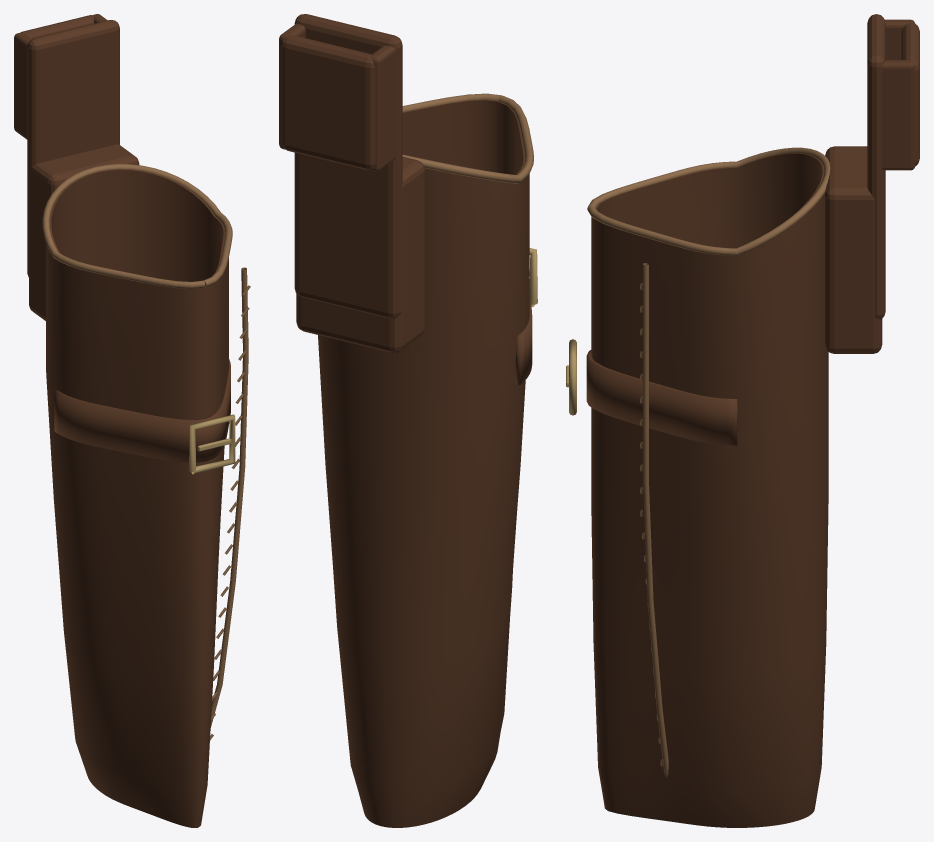
The model's file is holster.glb.
3 views of the same model, side by side, from view 1: azimuth 30°, elevation 25°; view 2: azimuth 150°, elevation 25°; view 3: azimuth 270°, elevation 25° (orthographic). The views are drawn at different scales.
Parts seen in each view (by area): view 1: Open leather pocket, Rolled open mouth, Keeper buckle; view 2: Open leather pocket, Rolled open mouth, Keeper buckle; view 3: Open leather pocket, Rolled open mouth, Keeper buckle.
Boxes of the visible parts, bbox=[...] form: Open leather pocket: bbox=[14, 14, 230, 827]; Rolled open mouth: bbox=[42, 164, 250, 740]; Keeper buckle: bbox=[189, 414, 235, 474]; Open leather pocket: bbox=[279, 14, 532, 827]; Rolled open mouth: bbox=[402, 93, 533, 183]; Keeper buckle: bbox=[529, 248, 537, 306]; Open leather pocket: bbox=[586, 14, 919, 827]; Rolled open mouth: bbox=[587, 147, 830, 777]; Keeper buckle: bbox=[566, 339, 576, 415].
Size of the model in its own units: 0.0936 by 0.374 by 0.155.
